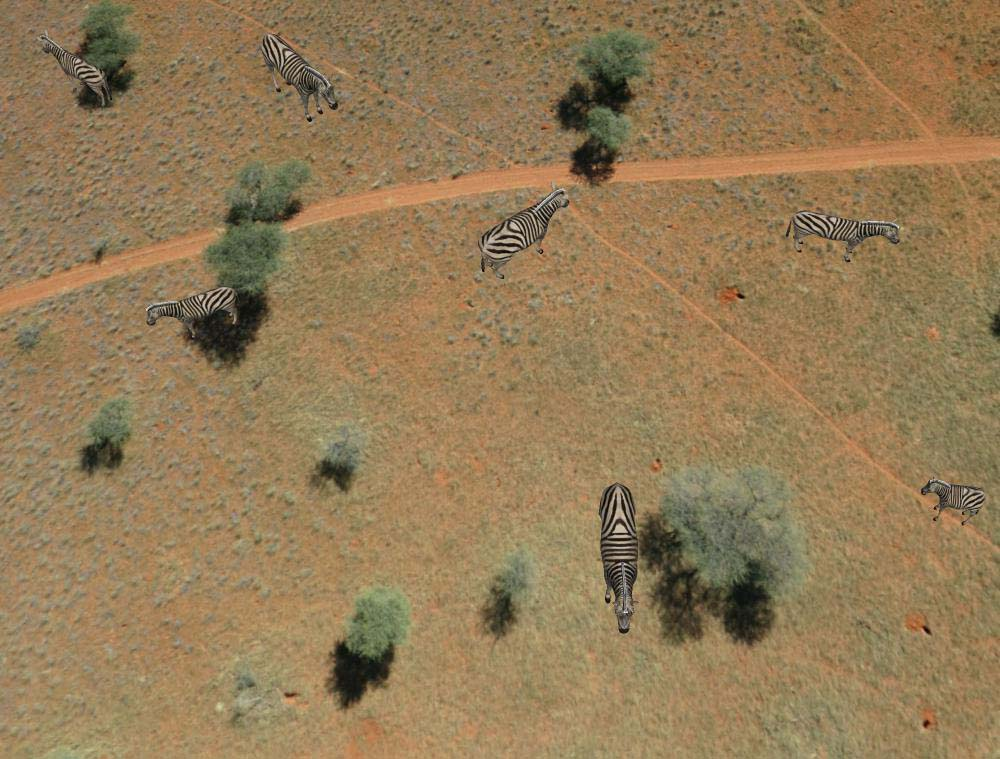zebra: (471, 181, 574, 275), (782, 199, 906, 270), (255, 27, 340, 127), (590, 483, 642, 634), (29, 32, 112, 102), (147, 286, 244, 345), (910, 473, 991, 532)
